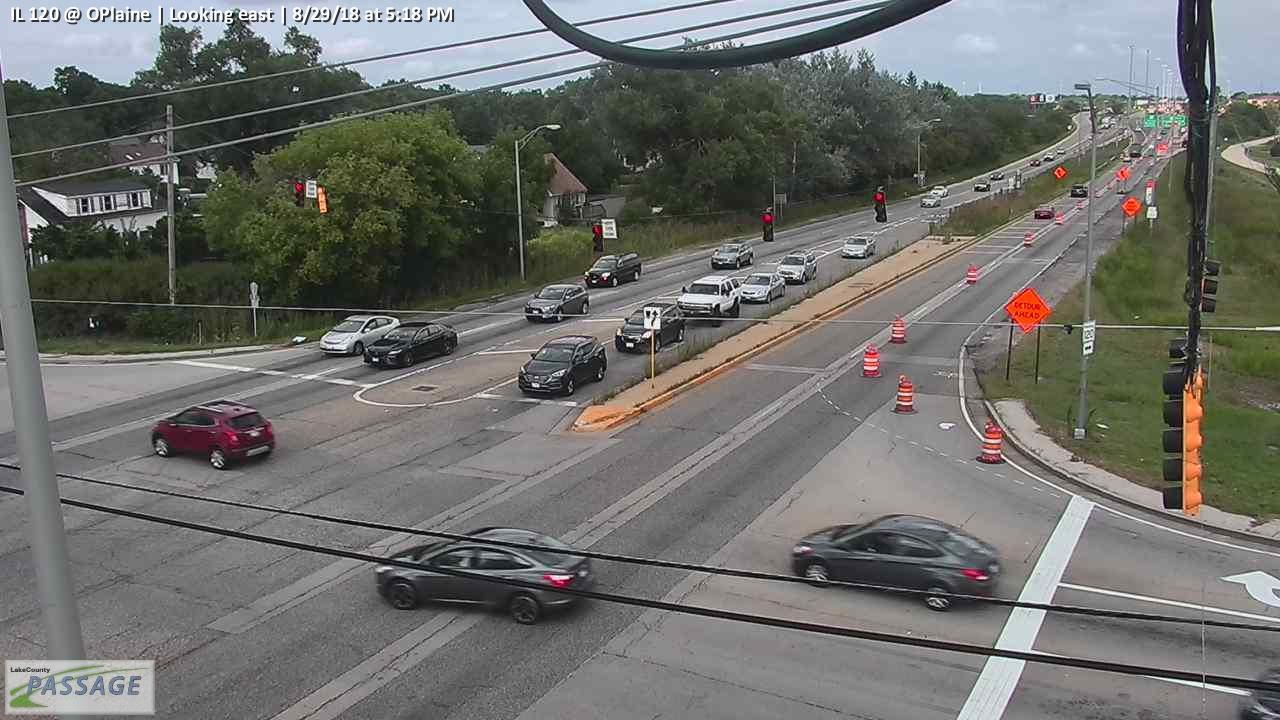SUV: (151, 400, 275, 470), (517, 333, 609, 398), (613, 299, 685, 356), (679, 274, 741, 327), (524, 283, 590, 323), (583, 250, 643, 287), (777, 252, 818, 283), (711, 240, 754, 268), (972, 178, 991, 192)
Sedan: (373, 526, 593, 626), (790, 514, 1002, 611), (362, 322, 458, 369), (319, 312, 401, 358), (738, 271, 787, 304), (840, 235, 877, 259), (1035, 202, 1056, 218), (920, 193, 943, 207), (930, 185, 948, 197)
